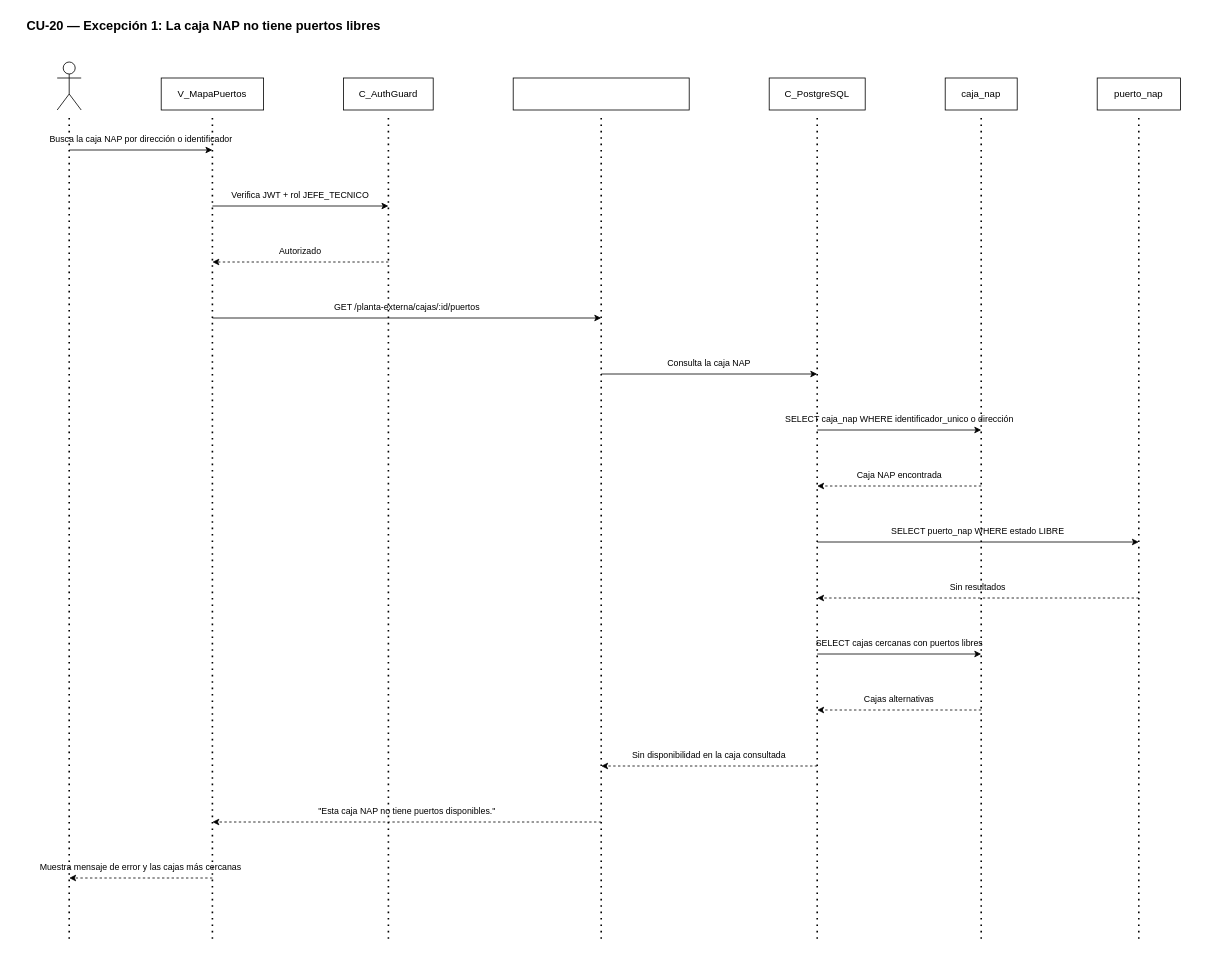
The diagram is 1226 pixels wide and 957 high, and some of its shapes have lost their labels. Here are the shapes that lost their labels. From the top down, the box of each, then its label:
(56, 61, 81, 110): Jefe Técnico
(512, 77, 689, 110): C_PlantaExternaController
